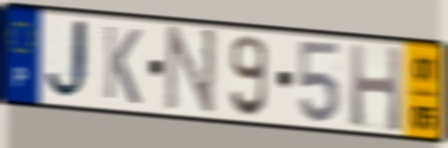5: (296, 40, 344, 127)
9: (228, 33, 270, 120)
H: (347, 41, 404, 136)
J: (43, 17, 95, 104)
K: (101, 22, 143, 108)
N: (162, 23, 219, 120)
